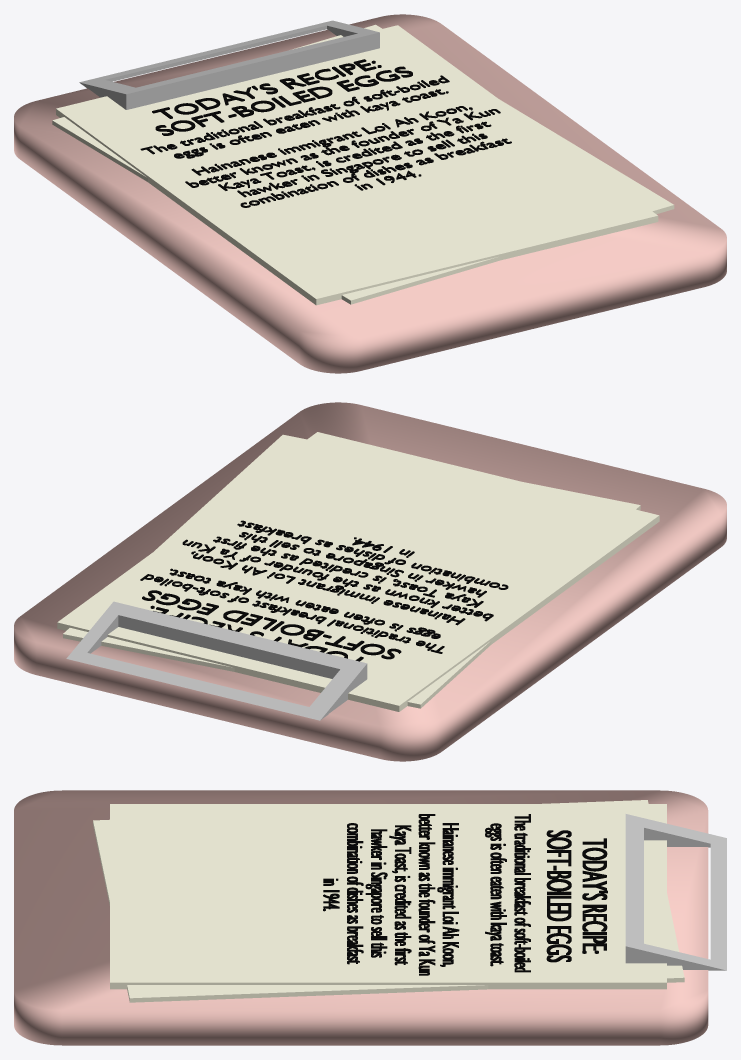
File: SBEclipboard.fbx
The picture shows the model from 3 angles, top to bottom: view 1: azimuth 30°, elevation 25°; view 2: azimuth 150°, elevation 25°; view 3: azimuth 270°, elevation 25°; orthographic projection. The views are drawn at different scales.
Visible parts, largest first — view 1: Cube.004, obj_0.005, Text.003, Cube.003, Cube.005, Text.004; view 2: Cube.004, obj_0.005, Cube.003, Text.003, Cube.005, Text.004; view 3: Cube.004, obj_0.005, Text.003, Cube.003, Cube.005, Text.004.
Boxes of the visible parts, x1,y1,x2,y2 form: Cube.004: [56, 25, 658, 305]; obj_0.005: [14, 14, 726, 373]; Text.003: [140, 75, 511, 207]; Cube.003: [79, 20, 379, 109]; Cube.005: [52, 24, 674, 304]; Text.004: [152, 59, 412, 135]; Cube.004: [57, 432, 659, 711]; obj_0.005: [14, 402, 726, 761]; Cube.003: [66, 601, 367, 720]; Text.003: [140, 520, 508, 653]; Cube.005: [63, 434, 640, 708]; Text.004: [142, 590, 401, 661]; Cube.004: [110, 804, 666, 989]; obj_0.005: [14, 790, 708, 1045]; Text.003: [323, 814, 530, 975]; Cube.003: [625, 814, 726, 970]; Cube.005: [93, 800, 684, 1002]; Text.004: [546, 830, 607, 962].
Size of the model in its own units: 263 by 32.69 by 360.
